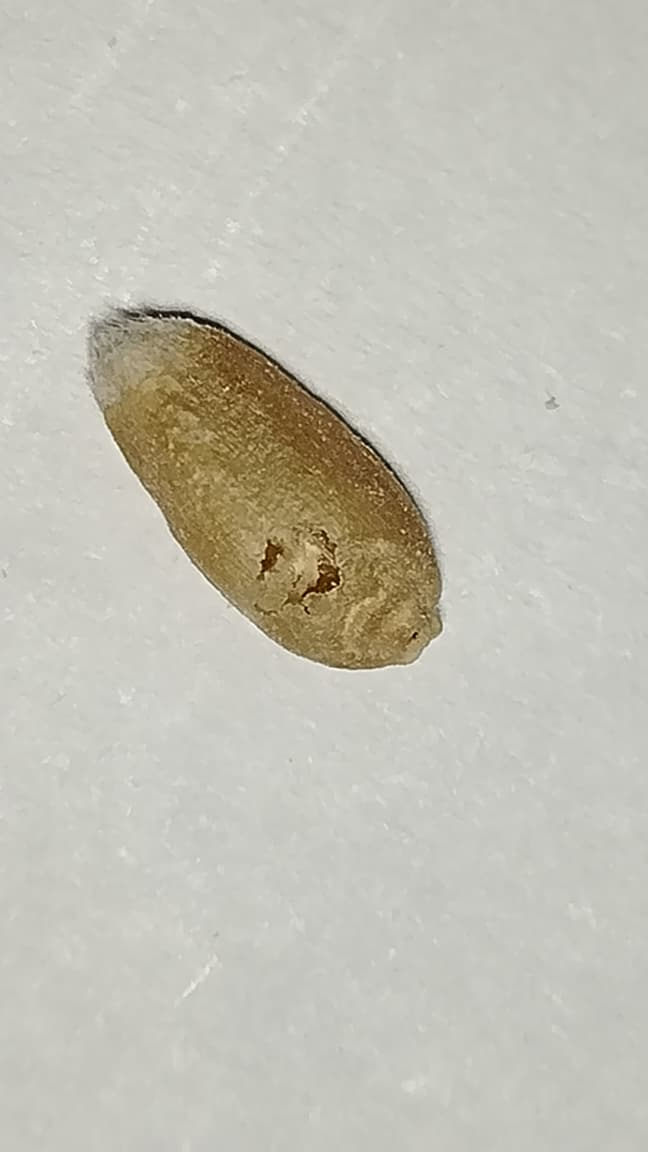damage: (88, 303, 441, 668)
insectdamage: (219, 502, 379, 616)
